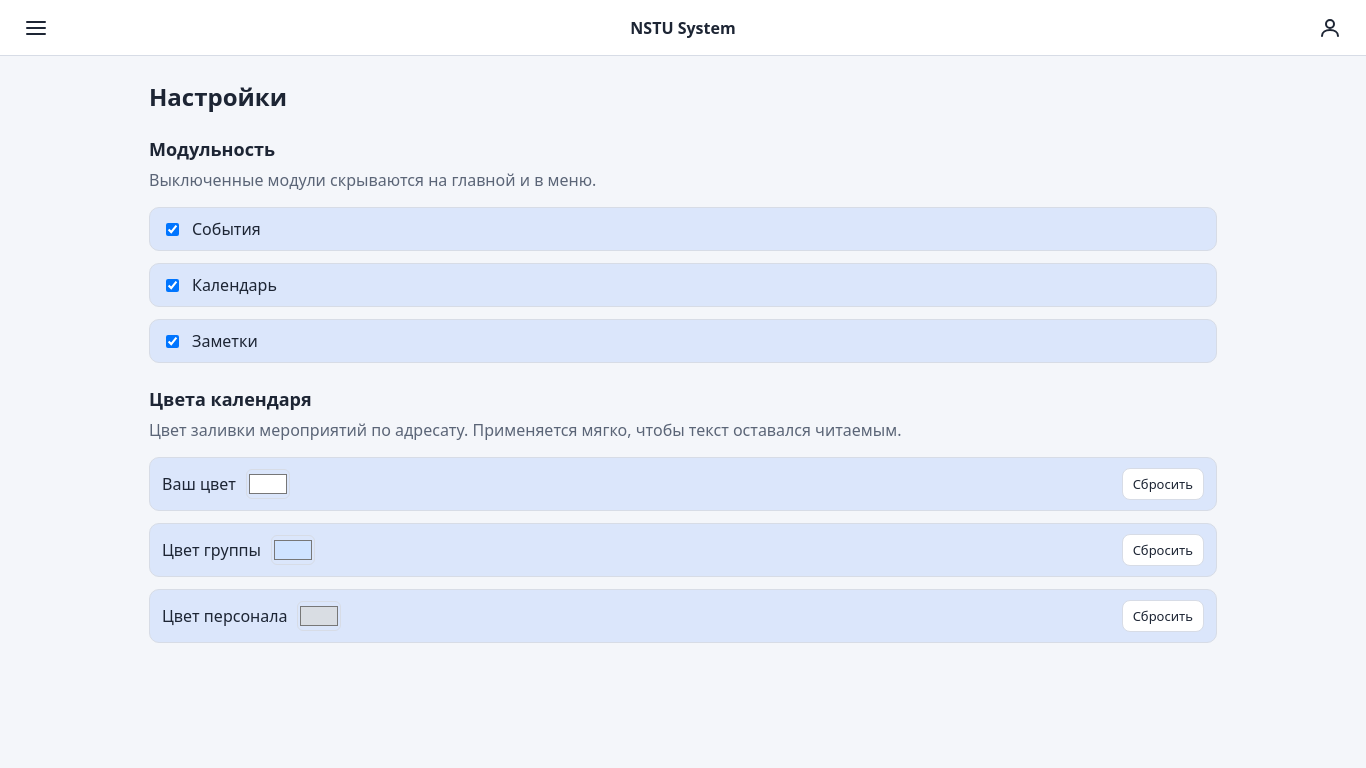
Test: страница «Настройки» › «Сбросить» возвращает только этот цвет, остальные не меняются
The width and height of the screenshot is (1366, 768).
Type "#ff0000" into the colour field labelled "Цвет группы" at {"x": 293, "y": 550}, box [271,535,315,565]
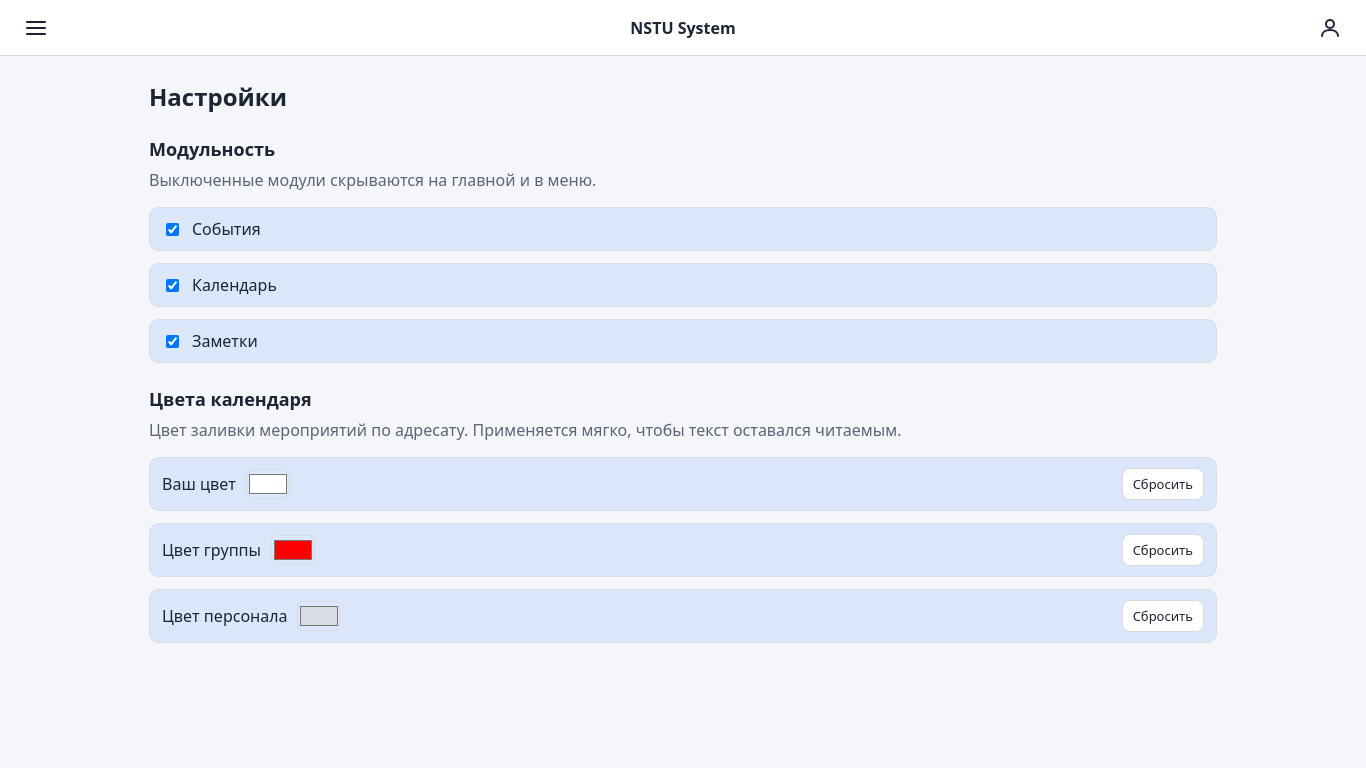
Type "#00ff00" into the colour field labelled "Цвет персонала" at {"x": 320, "y": 616}, box [298,601,342,631]
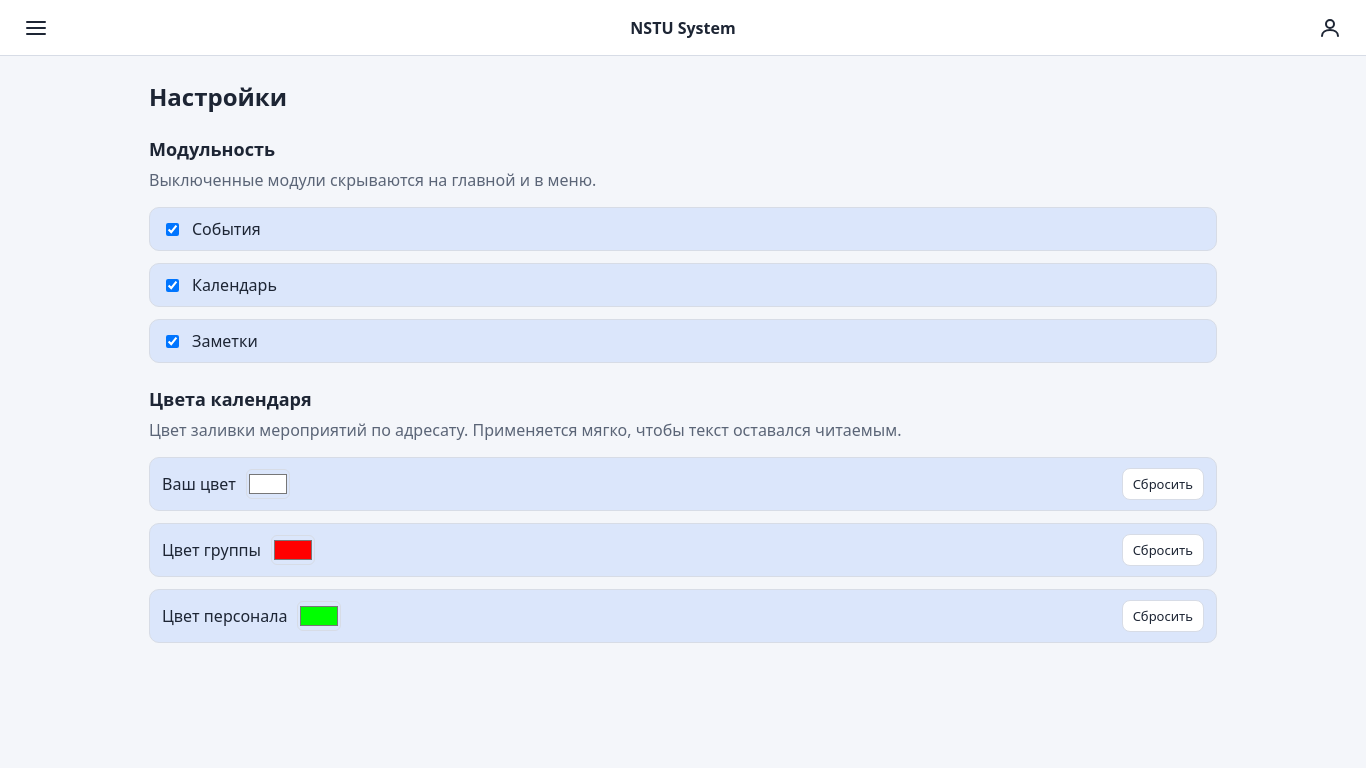
Click the button with aria-label "Сбросить Цвет группы" at {"x": 1163, "y": 550}, box [1122,534,1204,566]
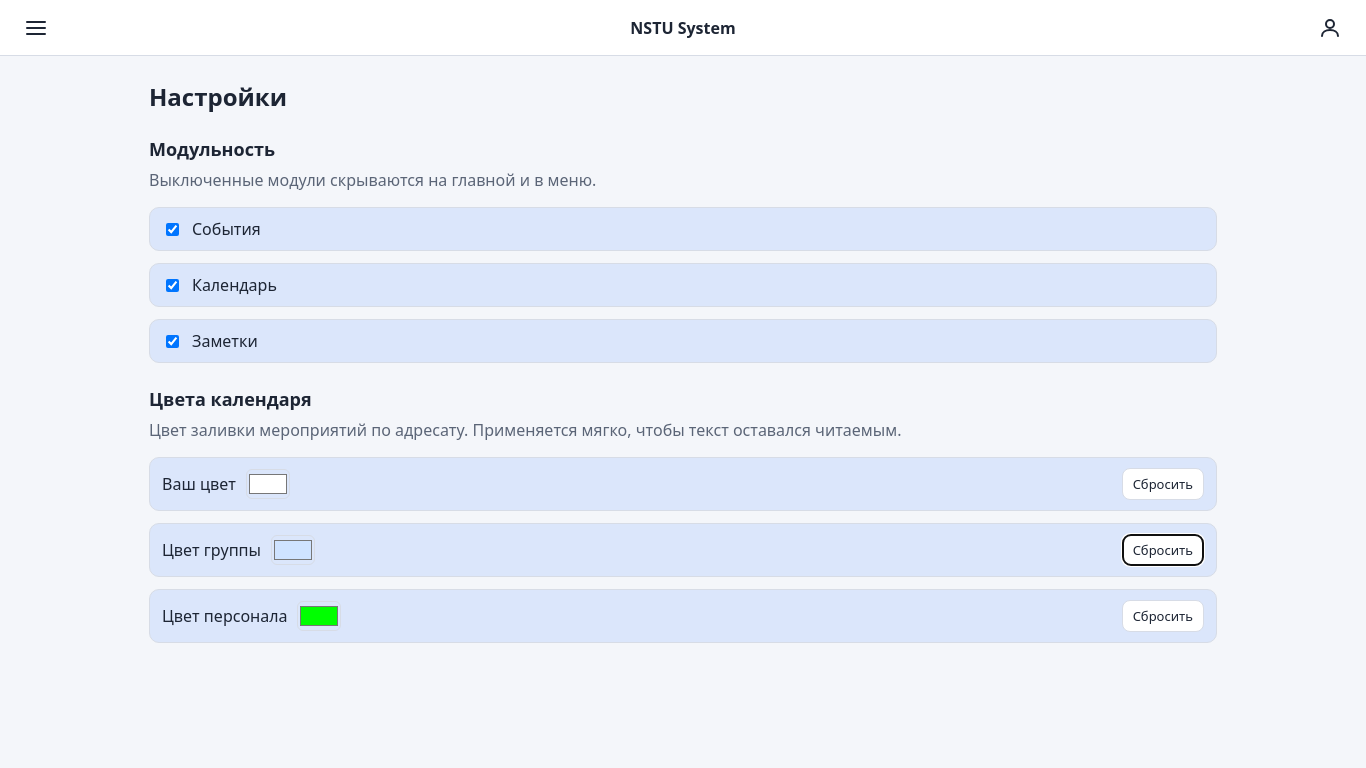
Expected: the colour field labelled "Ваш цвет" holds "#ffffff", [246,469,290,499]
Now the colour field labelled "Цвет группы" holds "#cfe3ff", box [271,535,315,565]
